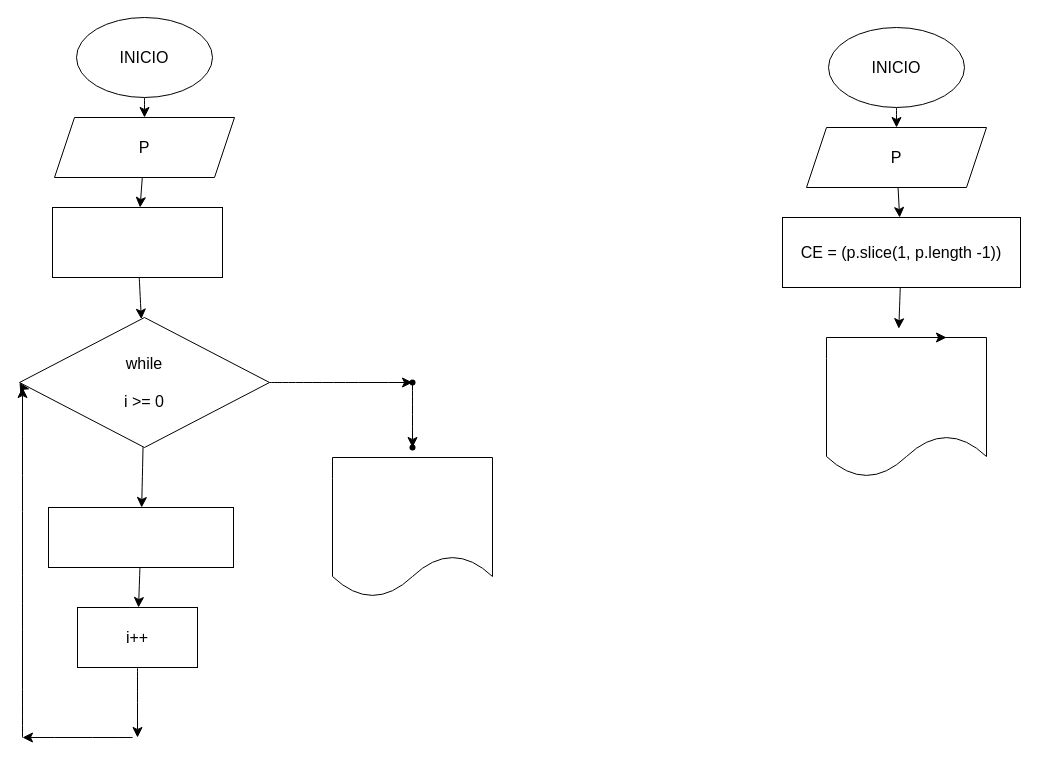
Some shapes in this 1038 by 760 pixel diagram are drawn without their labels. The shapes that lost their labels are listed below. From the top down, each one's centre as x and y in pixels, then its label:
(x=137, y=242): aux = ( " " ) i = (p.length) -1
(x=906, y=407): mostrar palabra sin con el primer y ultimo caracter eliminado
(x=141, y=537): aux = aux + p[ i ]
(x=412, y=527): La parabra Invertida es ( aux )
